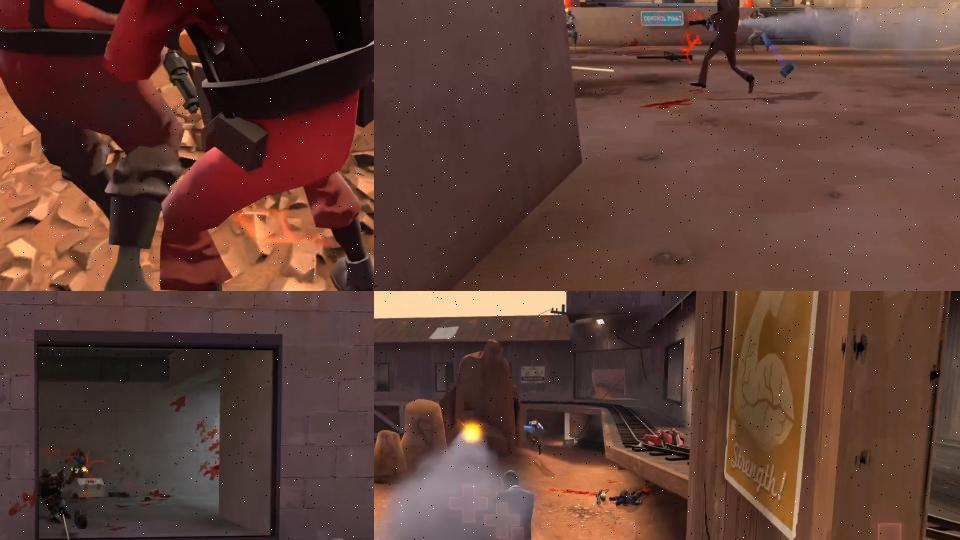Enemy: (101, 0, 374, 291), (0, 0, 186, 291), (687, 0, 755, 94), (471, 468, 557, 540), (38, 466, 71, 523), (748, 10, 771, 53), (526, 417, 548, 458), (65, 451, 89, 486), (565, 7, 579, 49), (797, 0, 816, 10)
